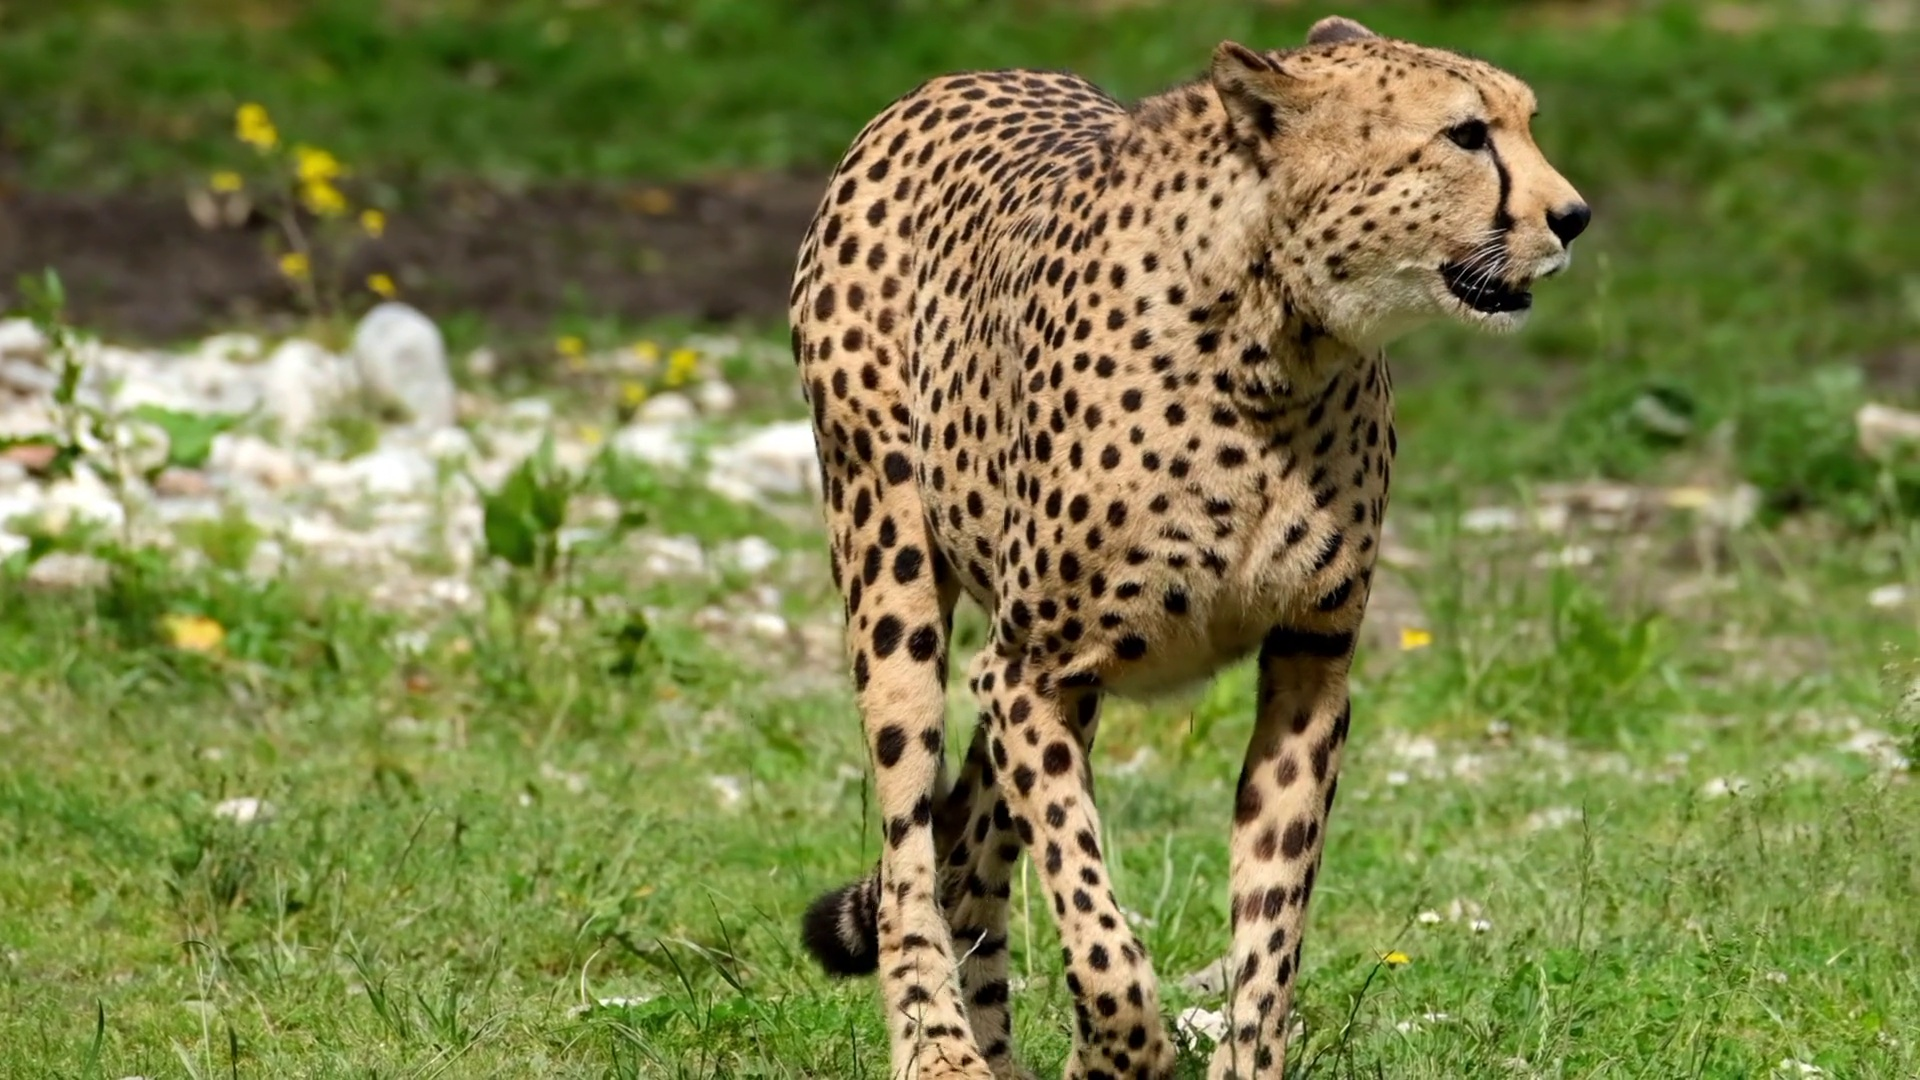Cheetah: (779, 13, 1597, 1080)
